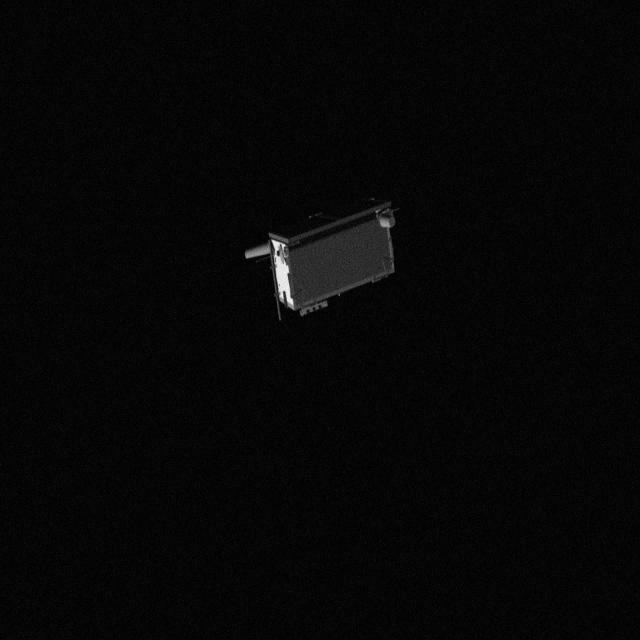medium_debris: (238, 196, 412, 324)
